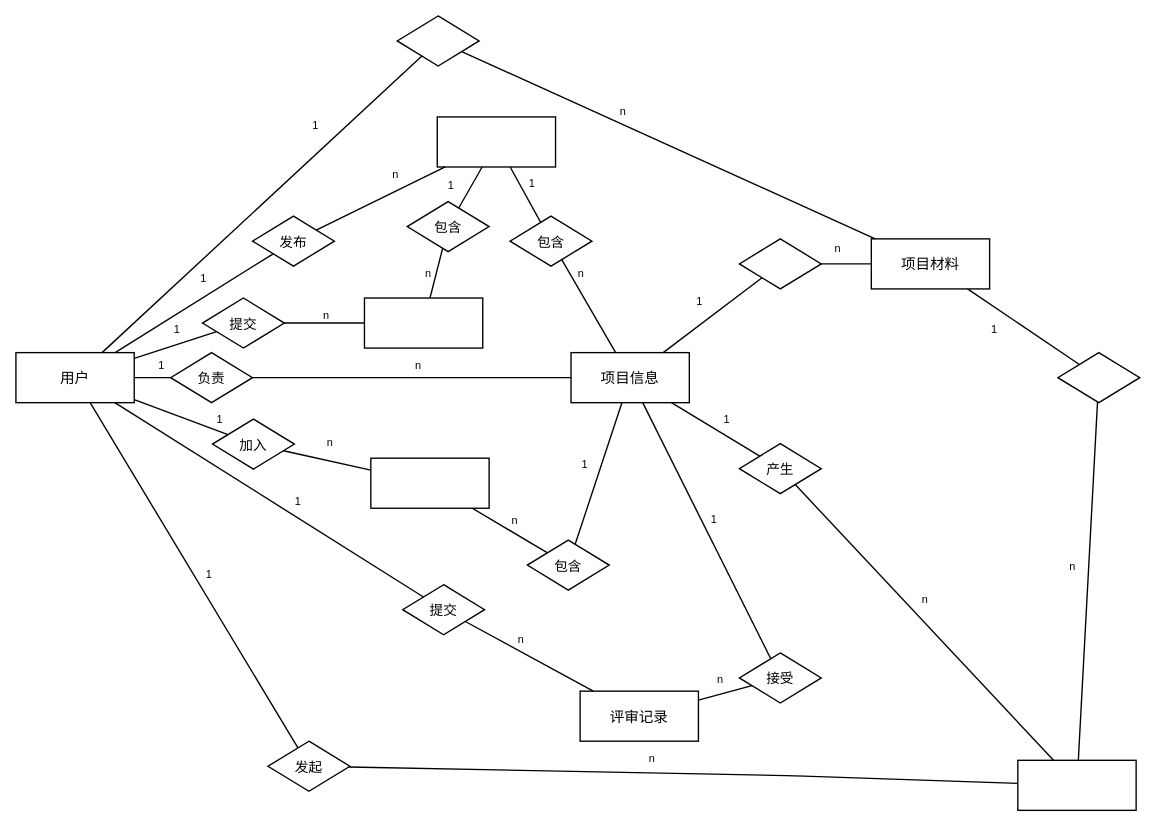
Image size: 1157x827. Some labels were removed from this diagram. The shapes that lost their labels are listed below. From the top down, each one's centre as x and y in pixels, then its label:
point (437, 40): 上传
point (496, 141): 竞赛信息
point (780, 263): 拥有
point (423, 322): 报名记录
point (1098, 377): 关联
point (429, 483): 团队成员
point (1076, 785): AI辅导记录
